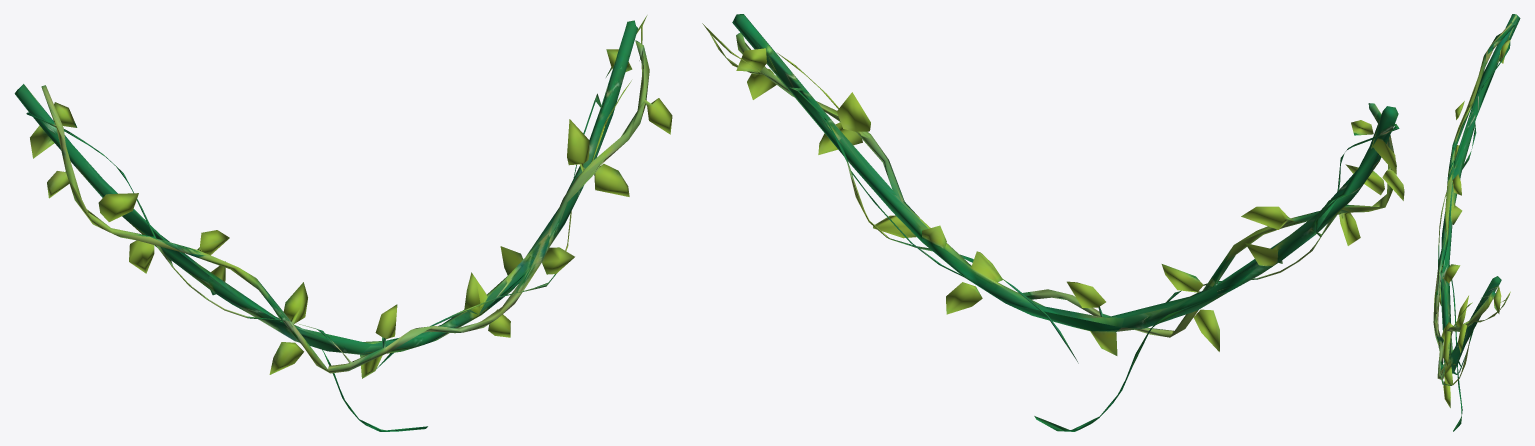
File: liane.glb
The picture shows the model from 3 angles, left to right: view 1: azimuth 30°, elevation 25°; view 2: azimuth 150°, elevation 25°; view 3: azimuth 270°, elevation 25°; orthographic projection. The views are drawn at different scales.
Parts seen in each view (by area): view 1: LOD0; view 2: LOD0; view 3: LOD0.
Boxes of the visible parts, x1=… form: LOD0: x1=14, y1=15, x2=672, y2=431; LOD0: x1=702, y1=14, x2=1404, y2=431; LOD0: x1=1433, y1=14, x2=1520, y2=431.
Size of what is drawn, in the model's own units: 1.02 by 0.6237 by 0.169.
1 material, 1 textured.
